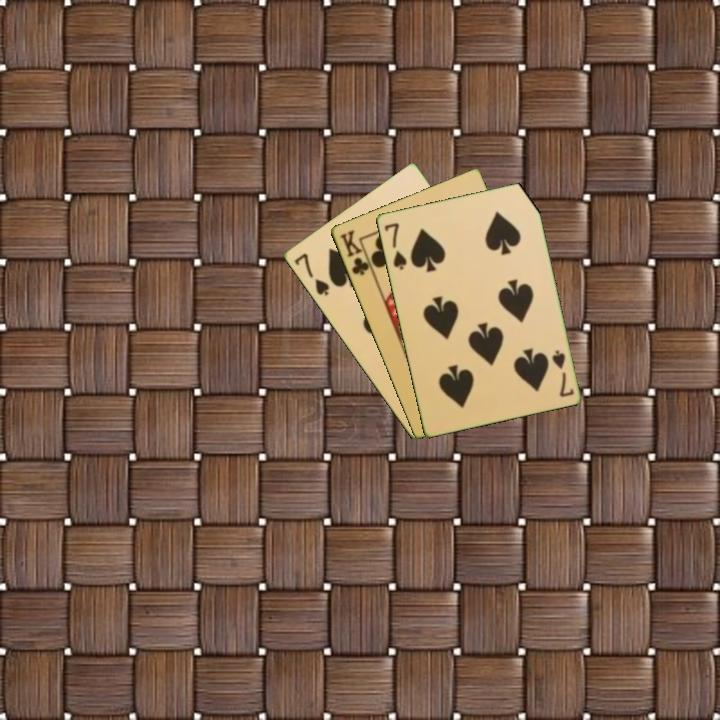7s: (290, 249, 332, 299), (380, 219, 409, 273), (548, 346, 576, 400)
Kc: (336, 226, 375, 279)
